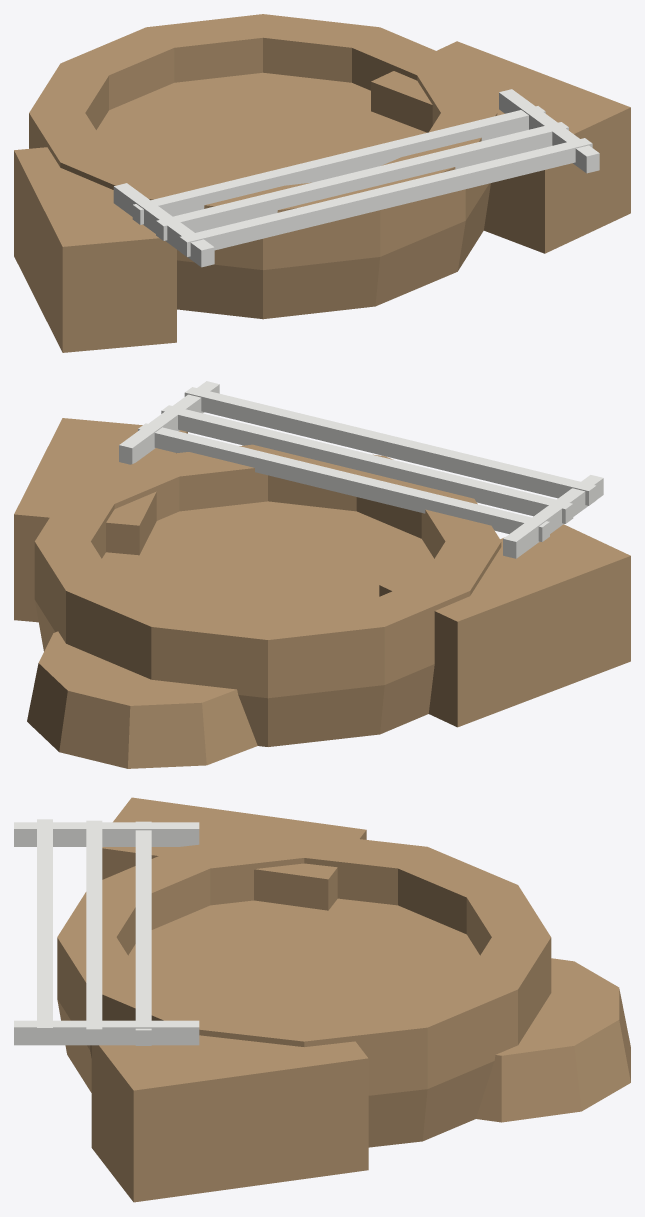
File: baseball-park-and-batting-cages-catchers-mitt-876e87b3__33767.glb
3 renders of one model, top to bottom at view 1: azimuth 30°, elevation 25°; view 2: azimuth 150°, elevation 25°; view 3: azimuth 270°, elevation 25°, orthographic. The views are drawn at different scales.
Parts seen in each view (by area): view 1: catchers-mitt; view 2: catchers-mitt; view 3: catchers-mitt.
Part boxes in pixels (x1,y1,x2,y2): catchers-mitt: [14, 14, 630, 352]; catchers-mitt: [14, 381, 630, 768]; catchers-mitt: [14, 797, 630, 1202].
Bounding box in the file's own units: 0.5617 × 0.117 × 0.4996.
